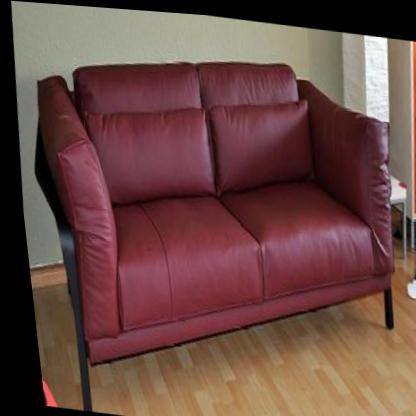Sofa: (3, 24, 413, 416)
Wooden floor: (85, 335, 416, 416)
